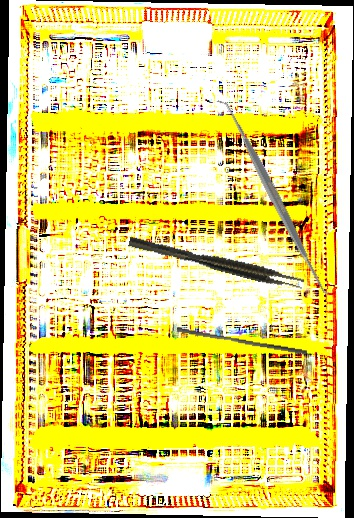Pusher: (175, 326, 309, 356)
Spatula Surgical: (212, 91, 336, 302)
Tissue Forceps: (127, 231, 306, 293)
